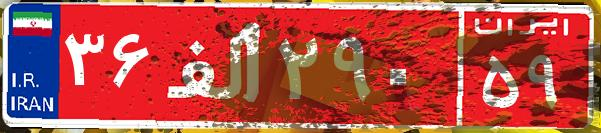0: (385, 28, 445, 110)
2: (273, 28, 330, 110)
3: (57, 26, 110, 107)
5: (475, 38, 525, 113)
6: (110, 28, 158, 105)
9: (330, 28, 385, 110), (525, 38, 570, 115)
الف: (158, 15, 273, 115)
